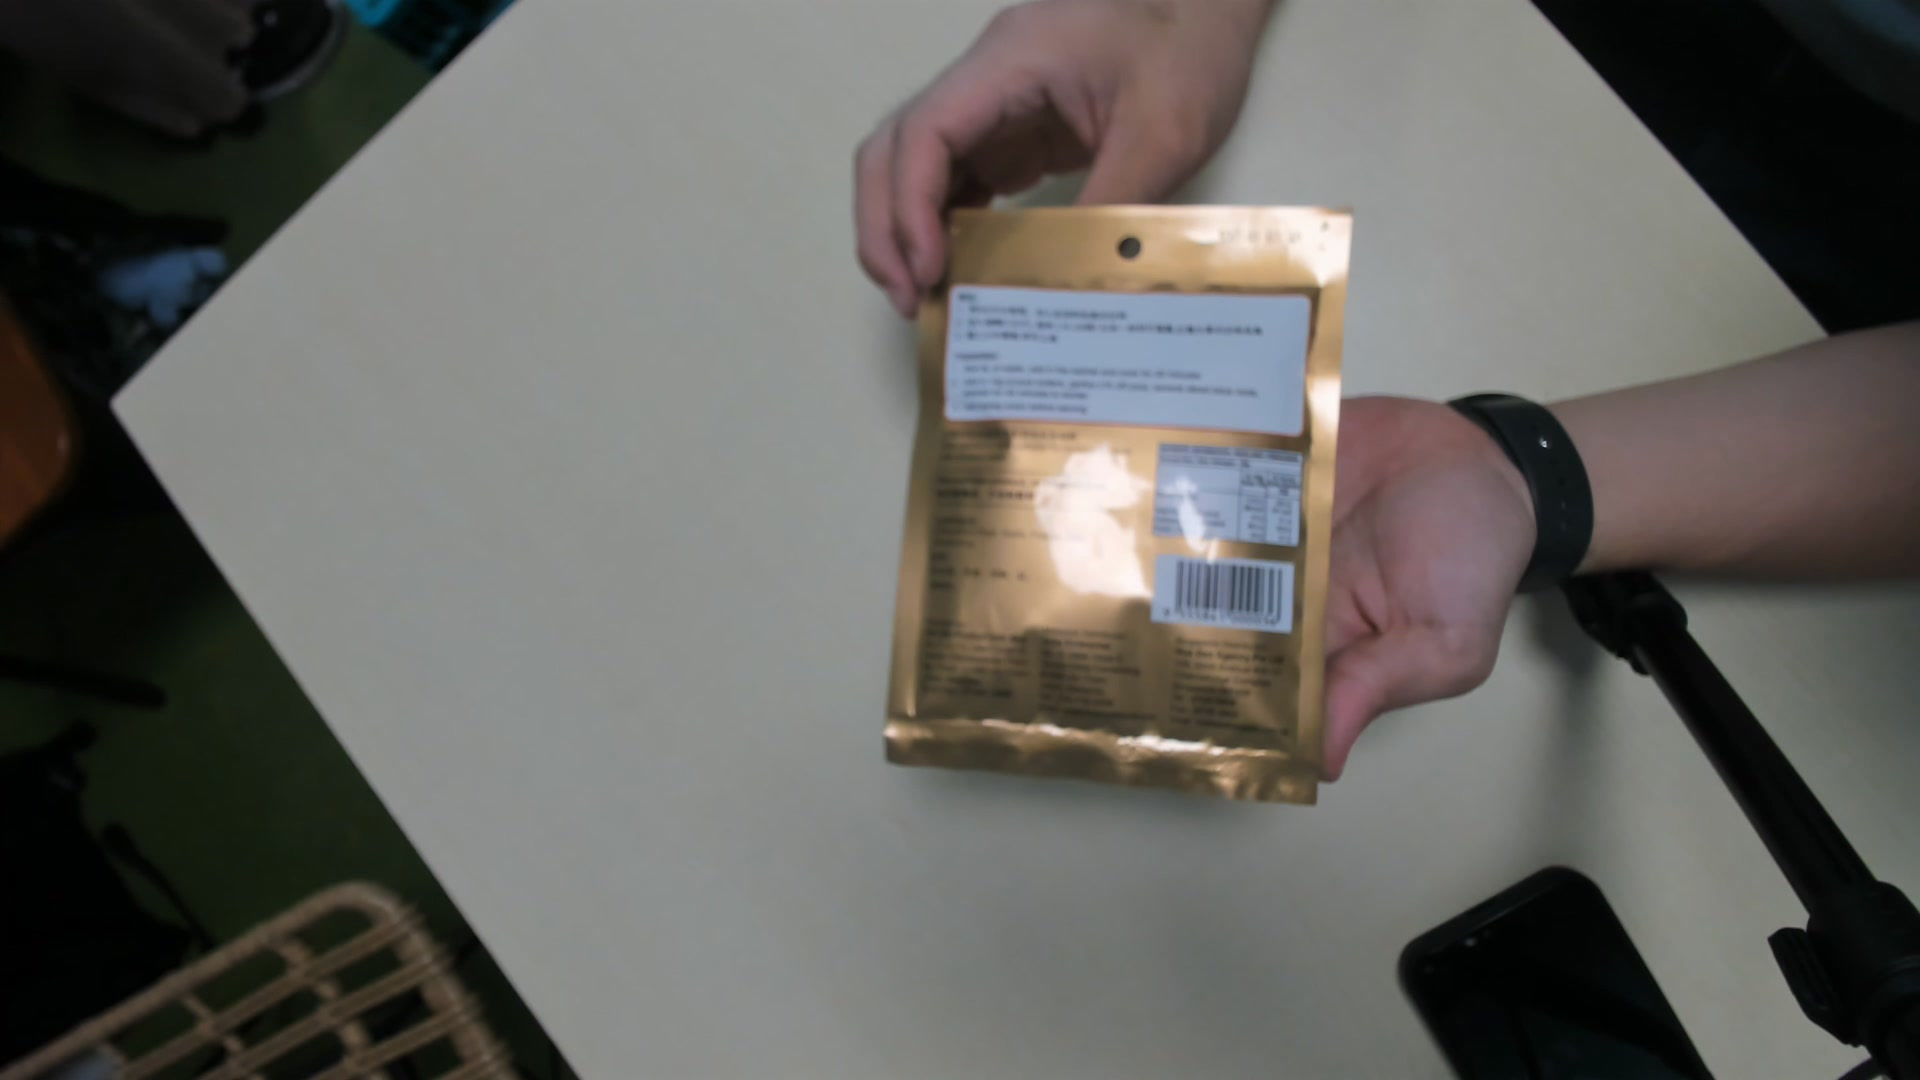OtherSauceDressing_0-99g_NonHalal_NonHealthy: (874, 204, 1352, 816)
